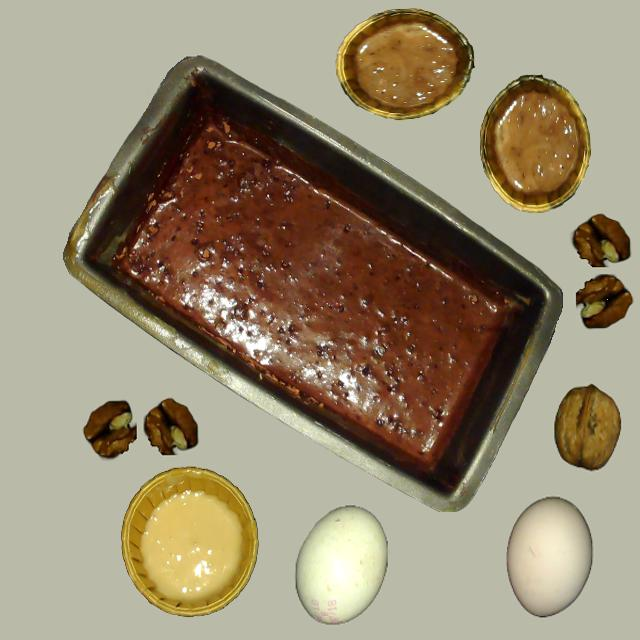Walnut: (549, 376, 628, 478)
